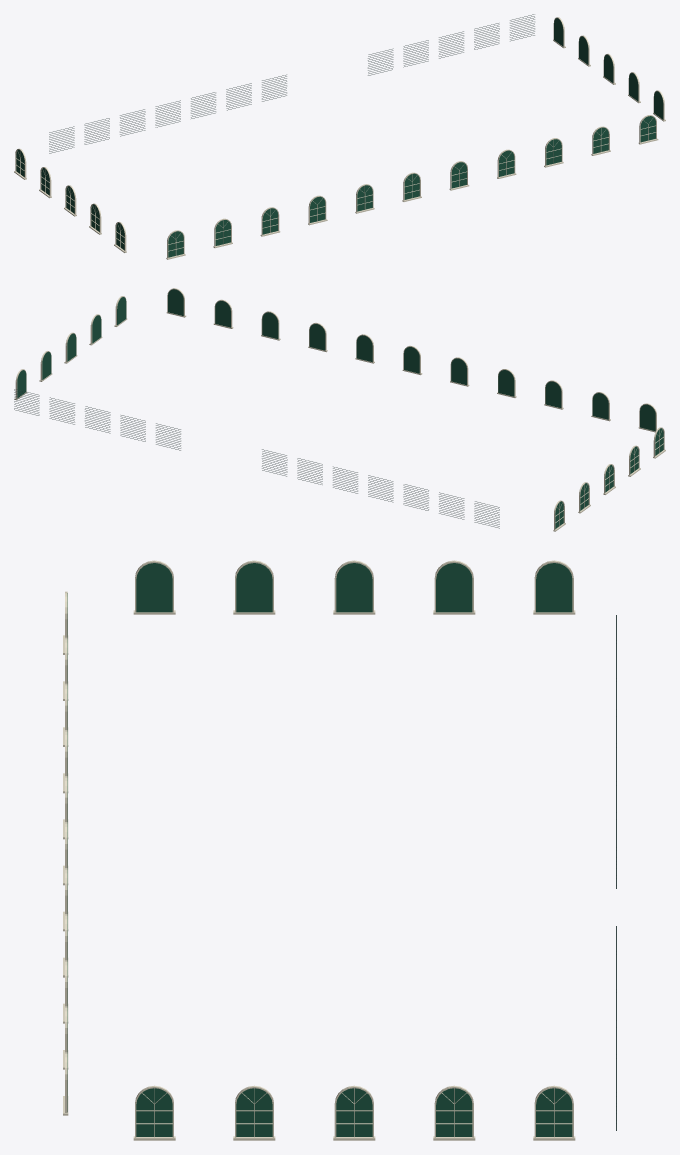
The model's file is KOL_T1_NEW_MARKET__03_ModularArchitecture.fbx.
3 renders of one model, top to bottom at view 1: azimuth 30°, elevation 25°; view 2: azimuth 150°, elevation 25°; view 3: azimuth 270°, elevation 25°, orthographic. The views are drawn at different scales.
Visible parts, largest first — view 1: KOL_T1_NEW_MARKET__03_ModularArchitecture__KOL_T1_B4_Green_0, KOL_T1_NEW_MARKET__03_ModularArchitecture__KOL_T1_B4_Trim_00, KOL_T1_NEW_MARKET__03_ModularArchitecture__KOL_T1_B4_Iron_00; view 2: KOL_T1_NEW_MARKET__03_ModularArchitecture__KOL_T1_B4_Green_0, KOL_T1_NEW_MARKET__03_ModularArchitecture__KOL_T1_B4_Iron_00, KOL_T1_NEW_MARKET__03_ModularArchitecture__KOL_T1_B4_Trim_00; view 3: KOL_T1_NEW_MARKET__03_ModularArchitecture__KOL_T1_B4_Green_0, KOL_T1_NEW_MARKET__03_ModularArchitecture__KOL_T1_B4_Trim_00.
Boxes of the visible parts, x1,y1,x2,y2 form: KOL_T1_NEW_MARKET__03_ModularArchitecture__KOL_T1_B4_Green_0: (16, 18, 663, 257); KOL_T1_NEW_MARKET__03_ModularArchitecture__KOL_T1_B4_Trim_00: (14, 17, 665, 259); KOL_T1_NEW_MARKET__03_ModularArchitecture__KOL_T1_B4_Iron_00: (49, 14, 534, 153); KOL_T1_NEW_MARKET__03_ModularArchitecture__KOL_T1_B4_Green_0: (17, 289, 663, 528); KOL_T1_NEW_MARKET__03_ModularArchitecture__KOL_T1_B4_Iron_00: (14, 389, 499, 528); KOL_T1_NEW_MARKET__03_ModularArchitecture__KOL_T1_B4_Trim_00: (14, 288, 665, 531); KOL_T1_NEW_MARKET__03_ModularArchitecture__KOL_T1_B4_Green_0: (67, 563, 572, 1136); KOL_T1_NEW_MARKET__03_ModularArchitecture__KOL_T1_B4_Trim_00: (63, 560, 575, 1140).
Size of the model in its own units: 275 by 12.85 by 122.
